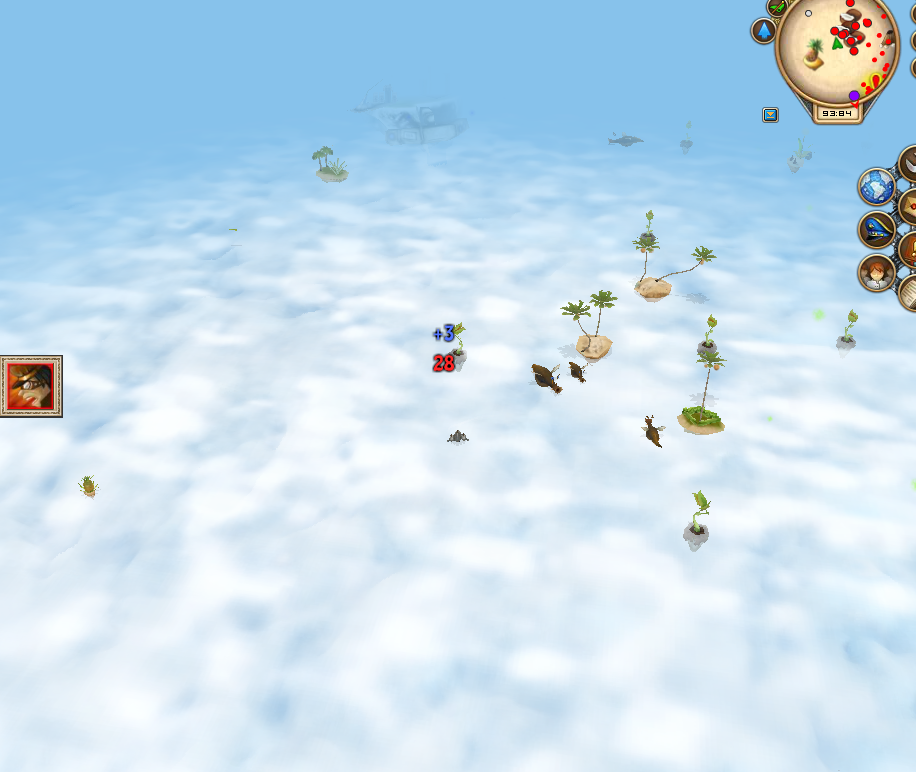palm: (630, 234, 717, 305), (675, 349, 730, 437), (559, 288, 621, 363)
